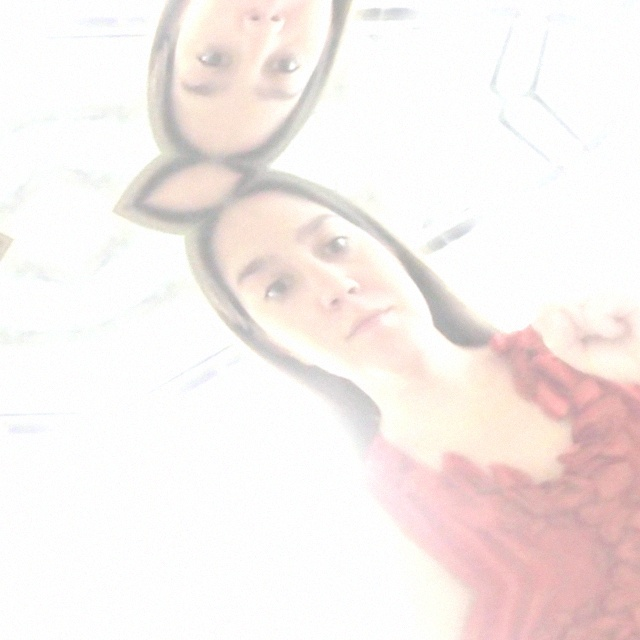Rock: (502, 232, 640, 438)
